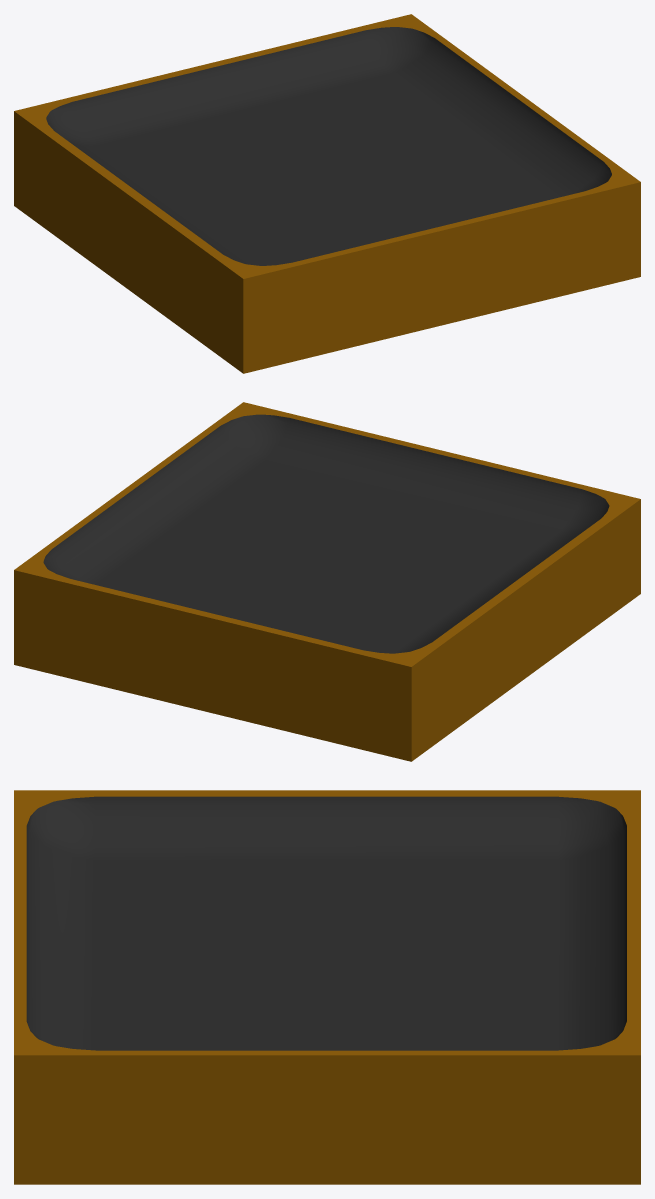
Rendered from tray.fbx.
3 renders of one model, top to bottom at view 1: azimuth 30°, elevation 25°; view 2: azimuth 150°, elevation 25°; view 3: azimuth 270°, elevation 25°, orthographic. The views are drawn at different scales.
Parts seen in each view (by area): view 1: pCube70; view 2: pCube70; view 3: pCube70.
Part boxes in pixels (box(x1,y1,x2,y2)): pCube70: box(14, 14, 640, 373); pCube70: box(14, 402, 640, 761); pCube70: box(14, 790, 640, 1184).
Bounding box in the file's own units: 0.01 × 0.00228 × 0.01.
